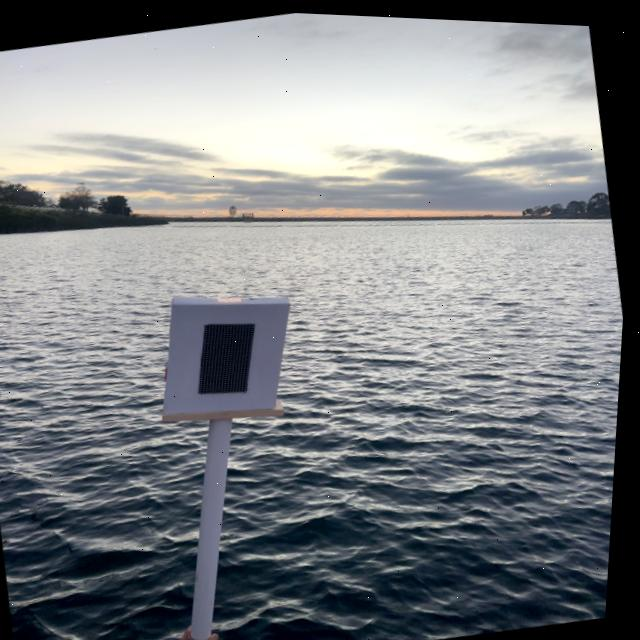led: (175, 298, 287, 416)
